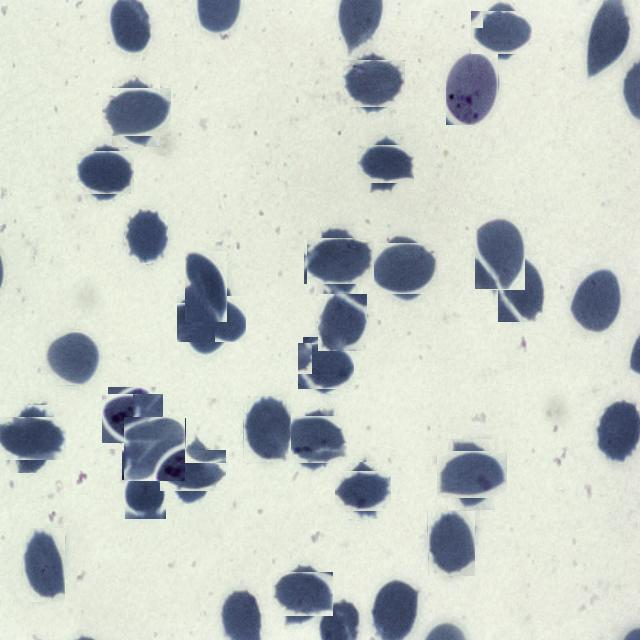red blood cell: (122, 418, 186, 480), (474, 217, 525, 290), (106, 82, 166, 142), (374, 238, 434, 298), (570, 267, 622, 335), (442, 445, 501, 504), (182, 290, 240, 348), (311, 232, 368, 290), (243, 396, 291, 463), (498, 255, 546, 322), (428, 511, 476, 577), (288, 412, 344, 468), (4, 411, 60, 467), (23, 528, 65, 602), (346, 56, 402, 111), (185, 251, 227, 322), (46, 332, 100, 386), (166, 444, 220, 498), (318, 292, 367, 350), (300, 339, 352, 392), (276, 568, 329, 620), (476, 6, 528, 59), (80, 148, 130, 198), (124, 209, 168, 264), (361, 140, 409, 188), (339, 466, 387, 514), (125, 470, 166, 519)
ring: (446, 50, 498, 124), (104, 390, 160, 446)
